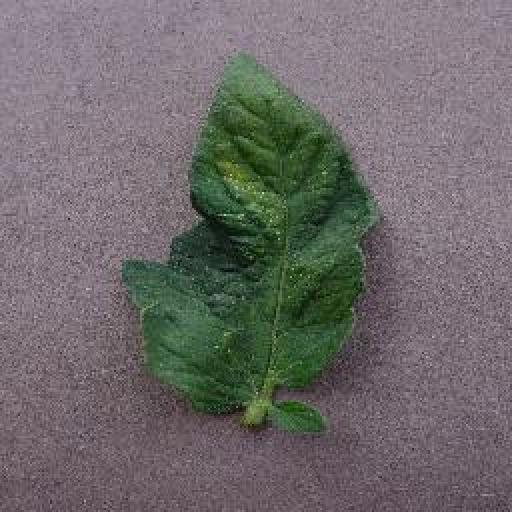Spider Mites: (120, 50, 372, 414)
